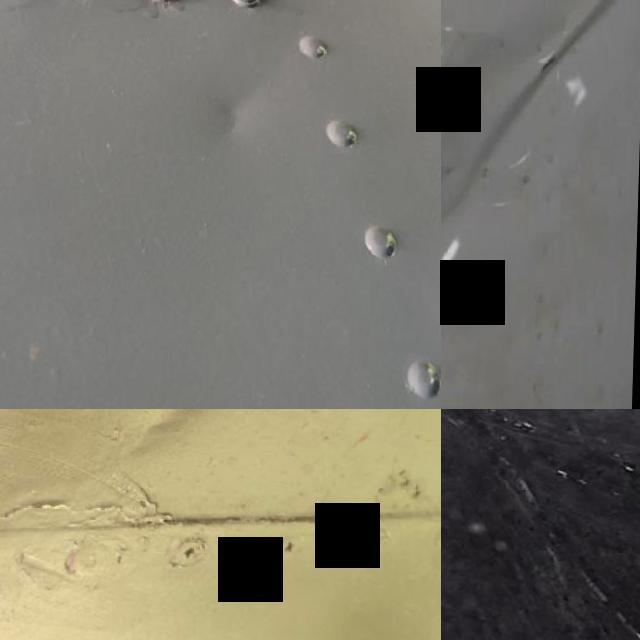Dent: (441, 0, 634, 228), (99, 409, 309, 474), (200, 83, 271, 156)
